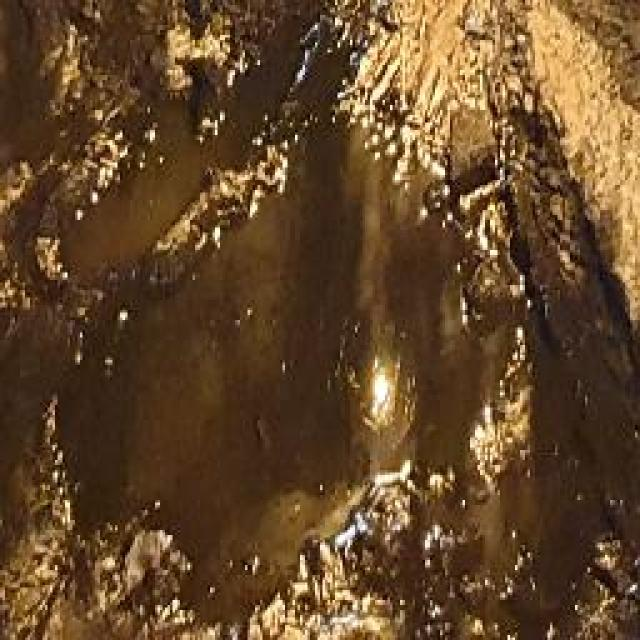stagnation: (42, 52, 640, 618)
